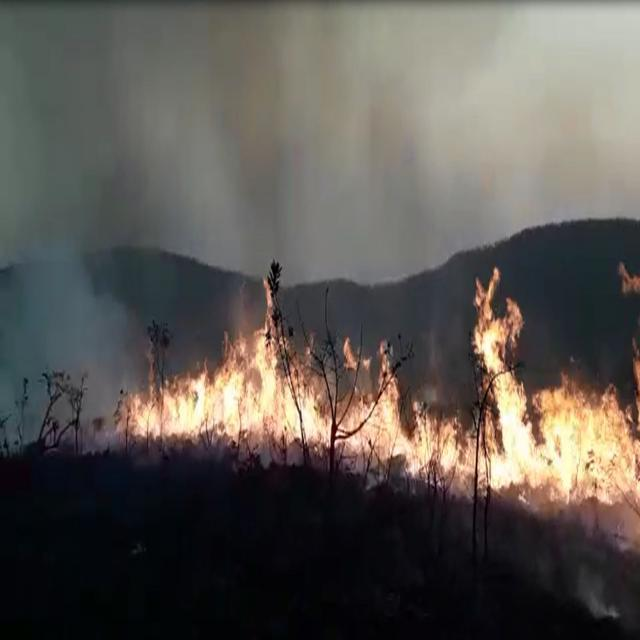Fire: (135, 276, 637, 500)
